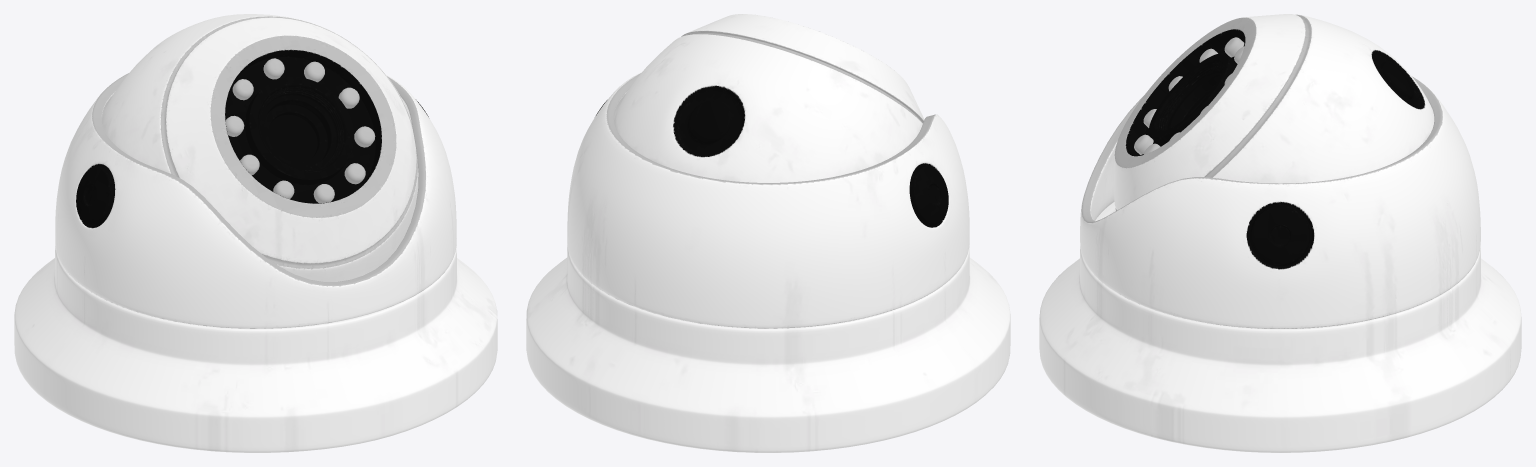
The model's file is camera-transformed.glb.
3 views of the same model, side by side, from view 1: azimuth 30°, elevation 25°; view 2: azimuth 150°, elevation 25°; view 3: azimuth 270°, elevation 25° (orthographic).
Parts seen in each view (by area): view 1: Sphere.002__0; view 2: Sphere.002__0; view 3: Sphere.002__0.
Boxes of the visible parts, <box> form: Sphere.002__0: <box>14,14,497,452</box>; Sphere.002__0: <box>526,14,1010,452</box>; Sphere.002__0: <box>1039,14,1521,452</box>.
Bounding box in the file's own units: 2.51 × 1.86 × 2.51.
Materials: 1 (1 with a texture image).
